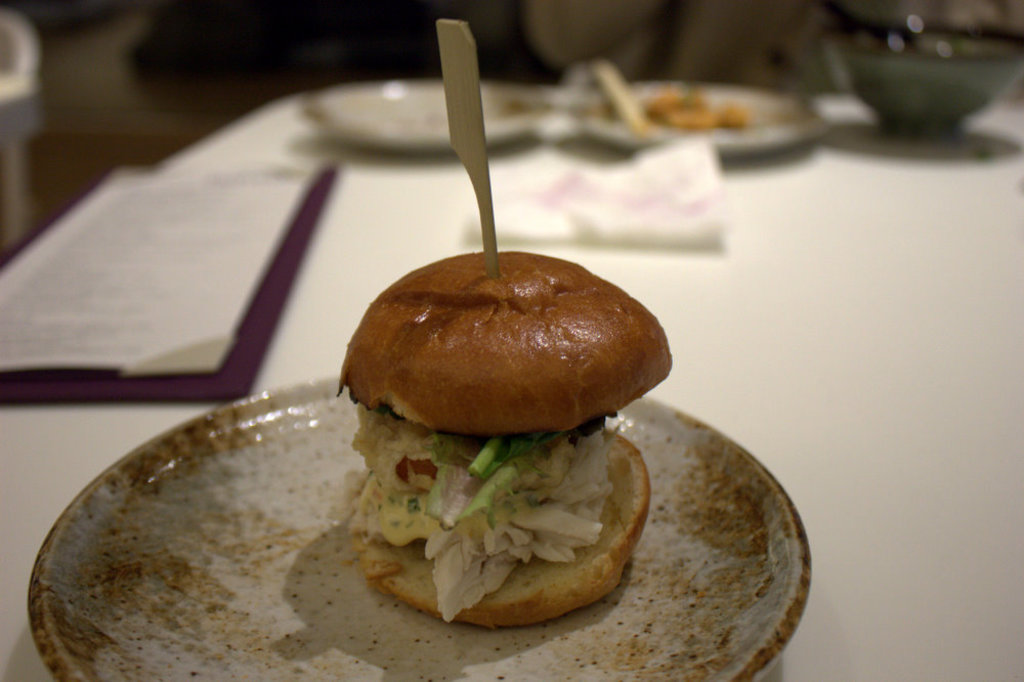Hamburger: (335, 250, 673, 623)
